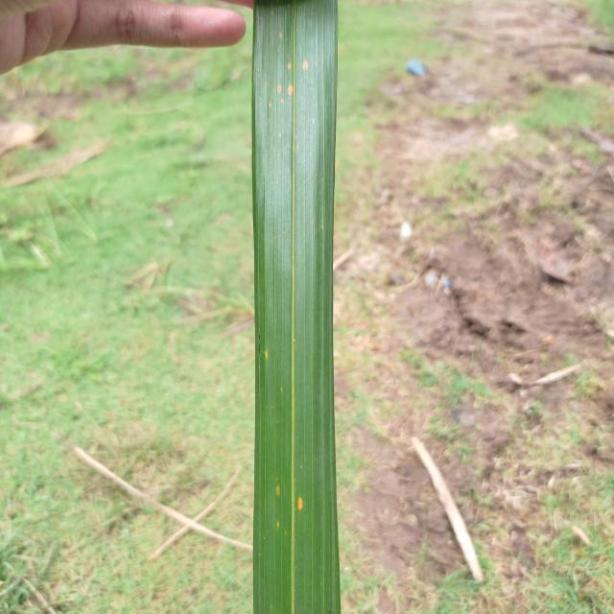Kalium: (242, 0, 342, 614)
